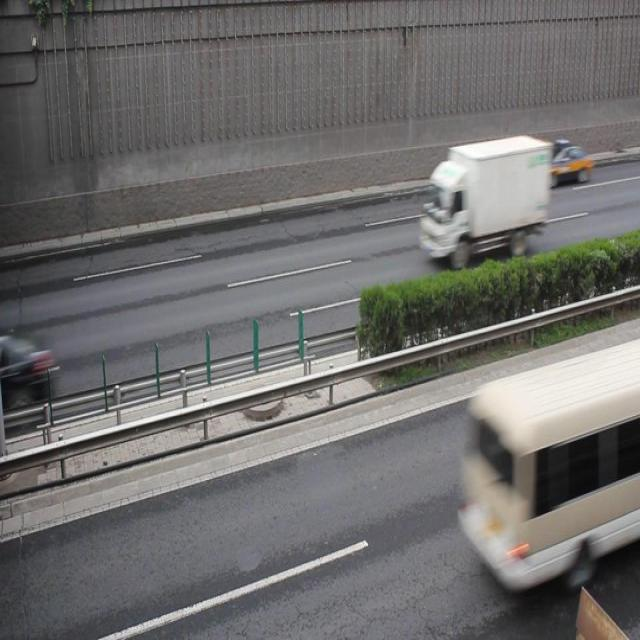bus: (418, 136, 549, 262)
car: (542, 140, 592, 187)
van: (456, 343, 640, 590)
